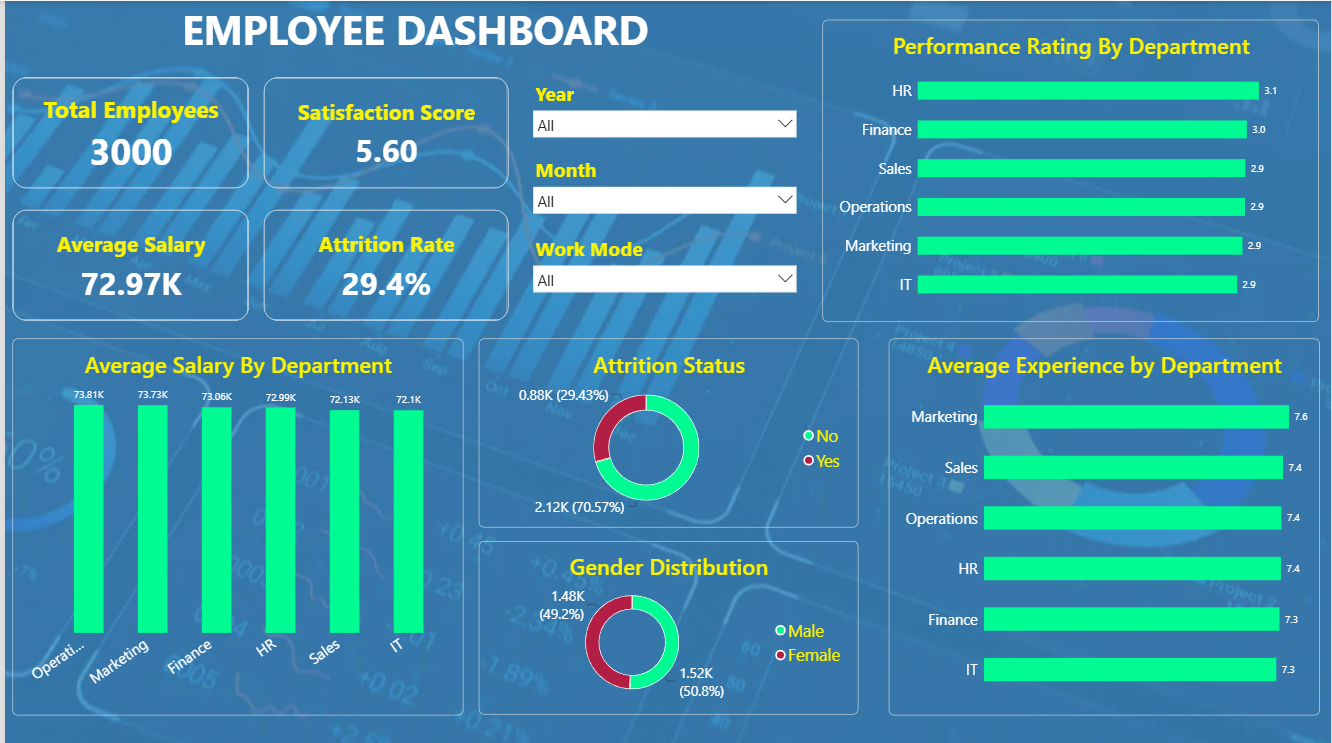

What the dashboard file says about the page in this screenshot:
{"tool":"powerbi","page":{"name":"Page 1","canvas":[1920,1080],"ordinal":0},"visuals":[{"type":"cardVisual","fields":{"Data":["Count(HR_Employee_Uncleaned_dataset.Employee_Name)"]},"box":[10.9,110.4,342,161.1],"z":0},{"type":"textbox","box":[19.9,0,1147.3,77.8],"z":1000},{"type":"slicer","fields":{"Values":["HR_Employee_Uncleaned_dataset.Joining_Date.Variation.Date Hierarchy.Year"]},"box":[760.1,114,390.9,94.1],"z":2000},{"type":"slicer","fields":{"Values":["HR_Employee_Uncleaned_dataset.Joining_Date.Variation.Date Hierarchy.Month"]},"box":[760.1,224.4,390.9,94.1],"z":3000},{"type":"cardVisual","fields":{"Data":["Avg(HR_Employee_Uncleaned_dataset.Salary)"]},"box":[10.9,302.2,342,161.1],"z":4000},{"type":"cardVisual","fields":{"Data":["Avg(HR_Employee_Uncleaned_dataset.Satisfaction_Score)"]},"box":[374.6,110.4,354.7,161.1],"z":5000},{"type":"cardVisual","fields":{"Data":["HR_Employee_Uncleaned_dataset.Attrition Rate"]},"box":[374.6,302.2,354.7,161.1],"z":6000},{"type":"clusteredBarChart","title":"Performance Rating By Department","fields":{"Category":["HR_Employee_Uncleaned_dataset.Department"],"Y":["Avg(HR_Employee_Uncleaned_dataset.Performance_Rating)"]},"box":[1183.5,27.1,718.4,437.9],"z":7001},{"type":"columnChart","title":"Average Salary By Department","fields":{"Category":["HR_Employee_Uncleaned_dataset.Department"],"Y":["Avg(HR_Employee_Uncleaned_dataset.Salary)"]},"box":[10.3,487.8,652.5,545.5],"z":7002},{"type":"barChart","title":"Average Experience by Department","fields":{"Y":["Avg(HR_Employee_Uncleaned_dataset.Experience_Years)"],"Category":["HR_Employee_Uncleaned_dataset.Department"]},"box":[1280.3,487.8,623.7,545.5],"z":7003},{"type":"donutChart","title":"Attrition Status ","fields":{"Y":["CountNonNull(HR_Employee_Uncleaned_dataset.Employee_ID)"],"Category":["HR_Employee_Uncleaned_dataset.Attrition_Status"]},"box":[685.4,487.8,549.6,273.8],"z":7004},{"type":"donutChart","title":"Gender Distribution","fields":{"Category":["HR_Employee_Uncleaned_dataset.Gender"],"Y":["CountNonNull(HR_Employee_Uncleaned_dataset.Employee_ID)"]},"box":[685.4,782.2,549.6,251.1],"z":7005},{"type":"slicer","fields":{"Values":["HR_Employee_Uncleaned_dataset.Work_Mode"]},"box":[760.1,338.4,390.9,150.2],"z":7006}]}

Visuals, with their boxes in screenshot pixels (x1, y1, x2, y2), scaled from the page's 1920x1080 canvas onto the 1332x743 screenshot:
cardVisual - Count(HR_Employee_Uncleaned_dataset.Employee_Name): l=8, t=76, r=245, b=187
textbox: l=14, t=0, r=810, b=54
slicer - HR_Employee_Uncleaned_dataset.Joining_Date.Variation.Date Hierarchy.Year: l=527, t=78, r=799, b=143
slicer - HR_Employee_Uncleaned_dataset.Joining_Date.Variation.Date Hierarchy.Month: l=527, t=154, r=799, b=219
cardVisual - Avg(HR_Employee_Uncleaned_dataset.Salary): l=8, t=208, r=245, b=319
cardVisual - Avg(HR_Employee_Uncleaned_dataset.Satisfaction_Score): l=260, t=76, r=506, b=187
cardVisual - HR_Employee_Uncleaned_dataset.Attrition Rate: l=260, t=208, r=506, b=319
"Performance Rating By Department" clusteredBarChart: l=821, t=19, r=1319, b=320
"Average Salary By Department" columnChart: l=7, t=336, r=460, b=711
"Average Experience by Department" barChart: l=888, t=336, r=1321, b=711
"Attrition Status " donutChart: l=475, t=336, r=857, b=524
"Gender Distribution" donutChart: l=475, t=538, r=857, b=711
slicer - HR_Employee_Uncleaned_dataset.Work_Mode: l=527, t=233, r=799, b=336
